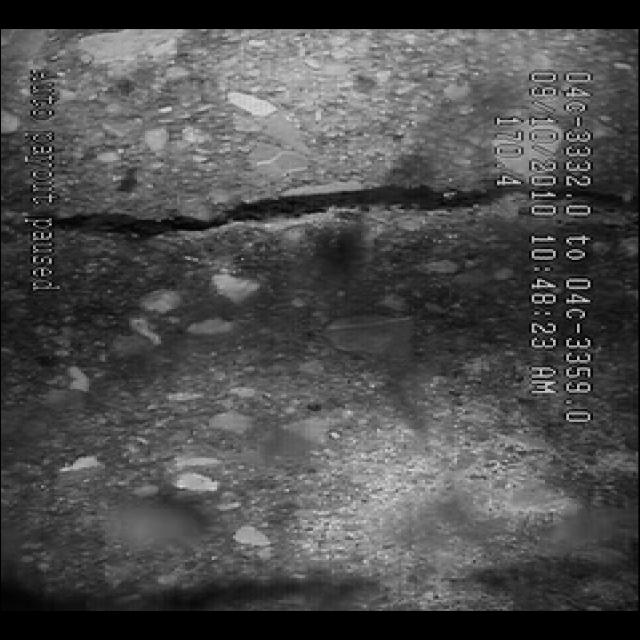Fracture: (114, 164, 477, 288)
